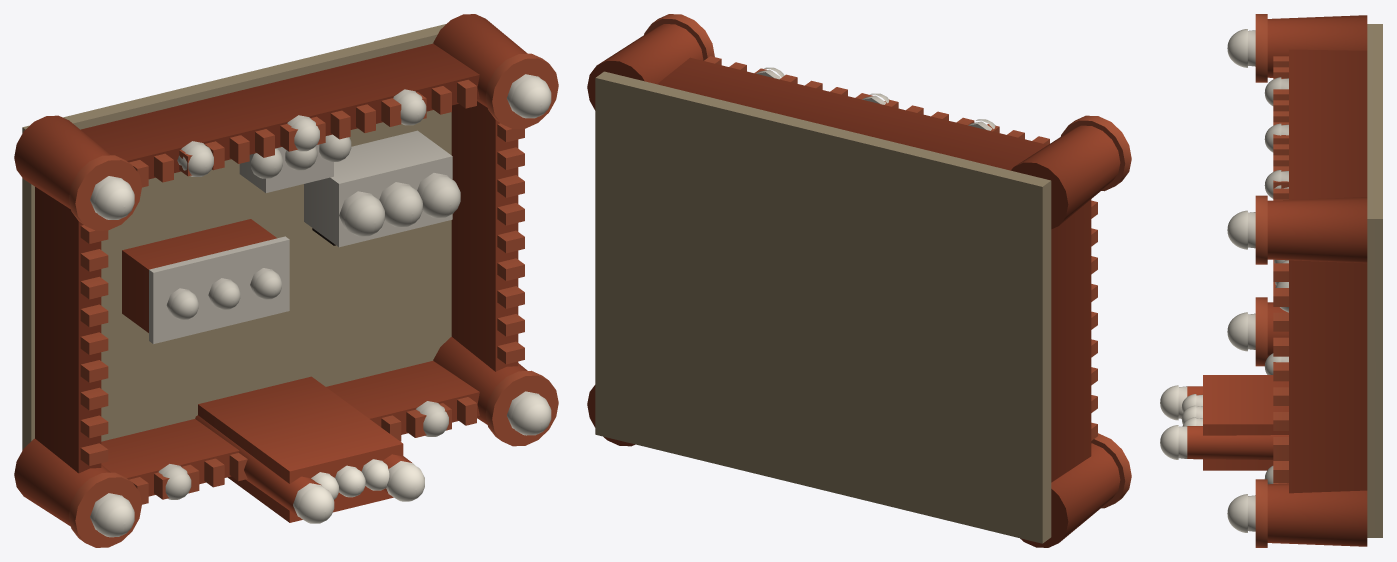
File: red-fort.glb
3 views of the same model, side by side, from view 1: azimuth 30°, elevation 25°; view 2: azimuth 150°, elevation 25°; view 3: azimuth 270°, elevation 25° (orthographic). The views are drawn at different scales.
Visible parts, largest first — view 1: part-ground, part-red, part-redShade, part-cren, part-marble, part-dome; view 2: part-ground, part-redShade, part-red, part-cren; view 3: part-red, part-redShade, part-cren, part-ground, part-dome, part-marble.
Boxes of the visible parts, x1,y1,x2,y2 form: part-ground: (22,24,451,450); part-red: (14,14,527,526); part-redShade: (35,43,479,473); part-cren: (69,53,558,547); part-marble: (90,74,540,530); part-dome: (94,77,551,537); part-ground: (595,71,1051,543); part-redShade: (657,57,1091,482); part-red: (587,24,1120,547); part-cren: (644,14,1131,508); part-red: (1187,15,1367,546); part-redShade: (1289,49,1367,199); part-cren: (1255,14,1288,547); part-ground: (1367,24,1382,537); part-dome: (1160,29,1288,532); part-marble: (1178,30,1288,531).
Bounding box in the file's own units: 1.28 × 0.976 × 0.5698.
